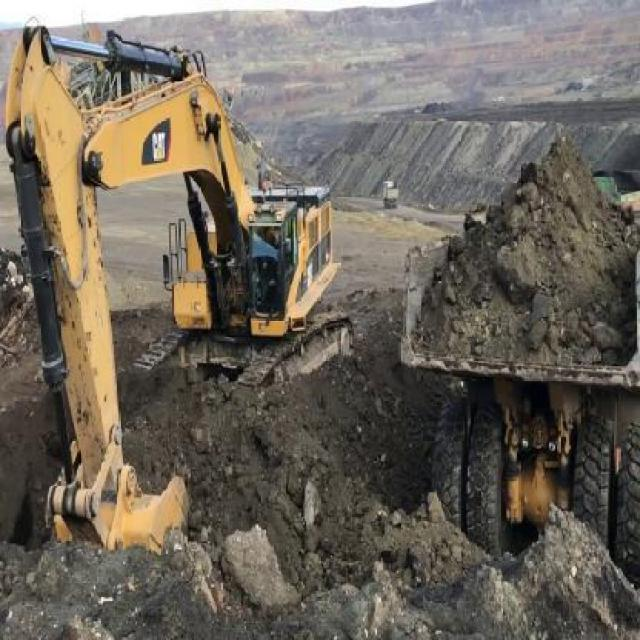Dump Truck: (394, 150, 638, 576), (383, 176, 399, 207)
Excavator: (8, 10, 357, 575)
